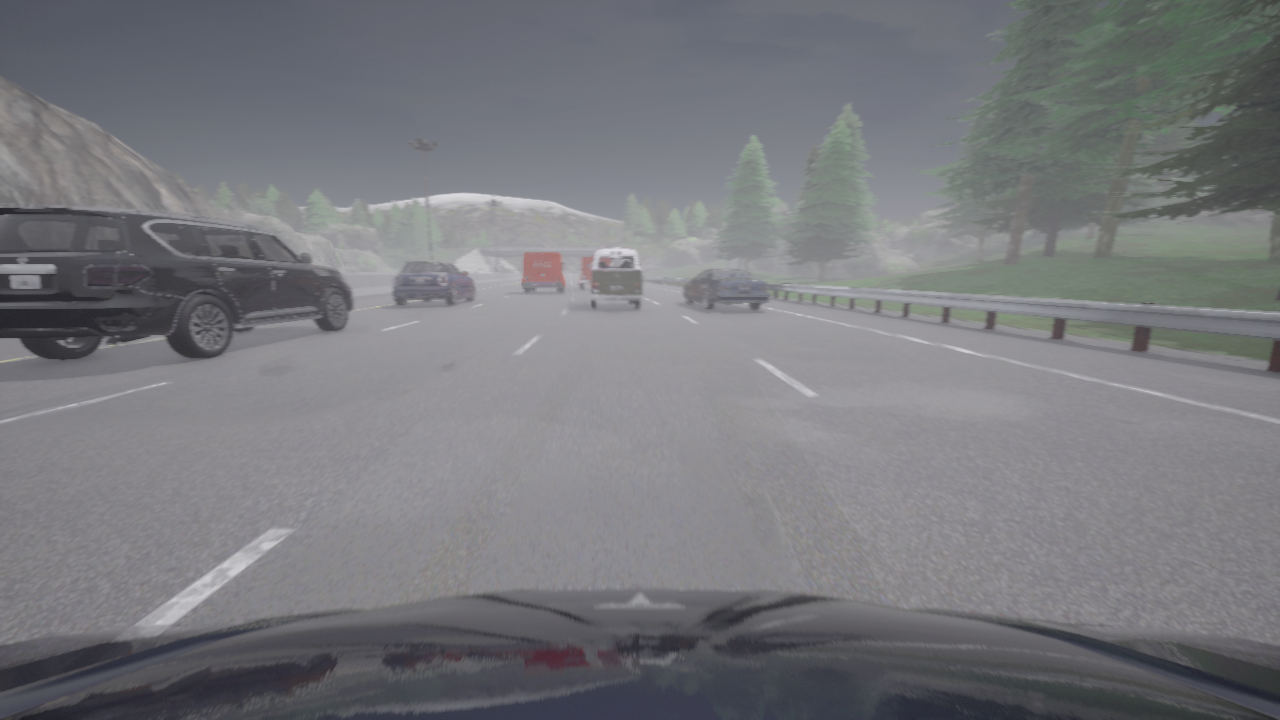cyclist: (0, 588, 1279, 719), (0, 207, 352, 360), (393, 260, 474, 305), (683, 268, 769, 309), (586, 248, 642, 308), (522, 253, 565, 292), (578, 256, 592, 289)
